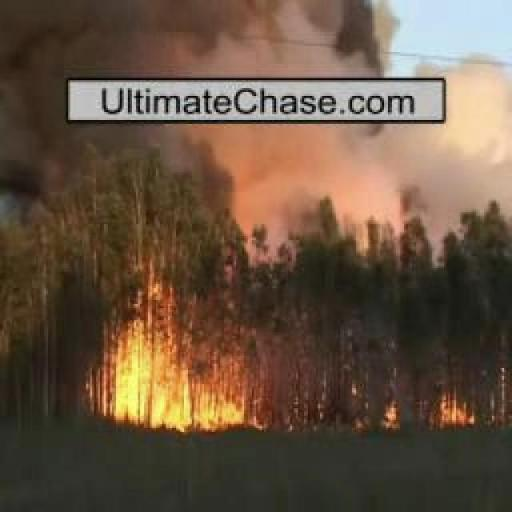smoke: (89, 297, 265, 426), (345, 382, 406, 430), (438, 396, 478, 426)
